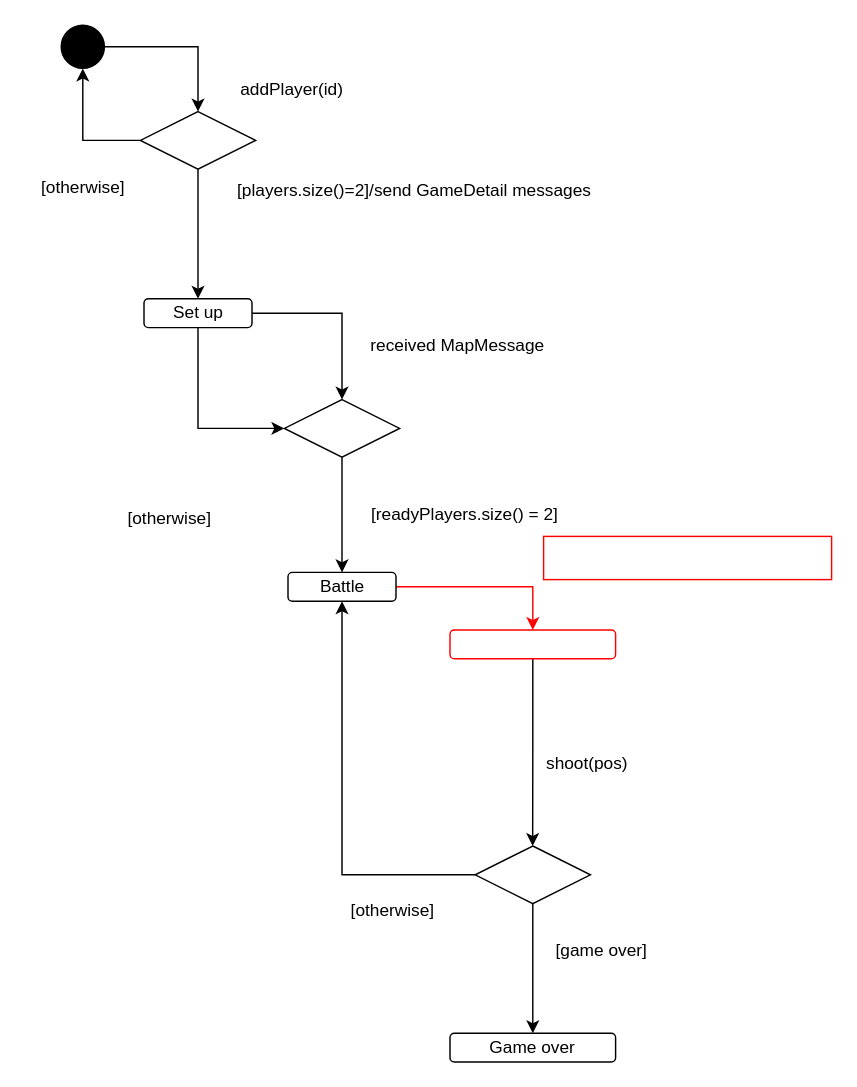
Image size: 857x1087. Some labels were removed from this diagram. The centre of each missing label's shape, as x and y in pixels:
Animation wait: (x=532, y=644)
sendAnimationStartMessage(pos): (x=687, y=557)
